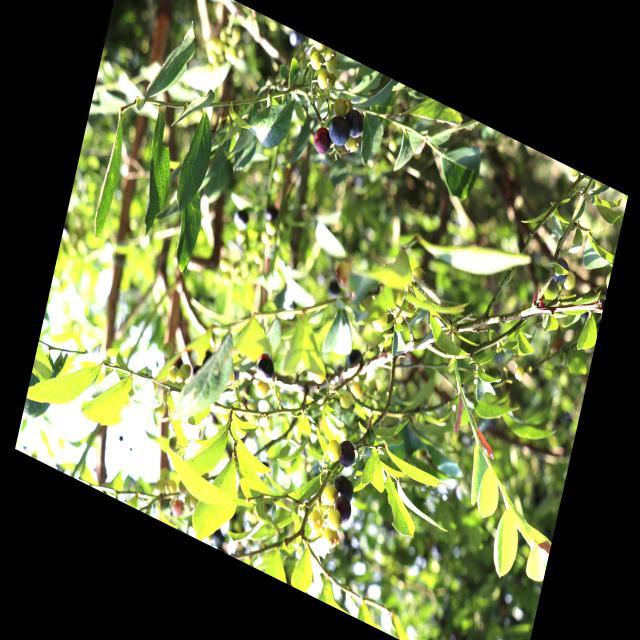blueberry: (325, 111, 353, 151), (549, 253, 573, 291), (342, 105, 367, 141), (330, 492, 355, 528), (332, 472, 358, 505), (253, 353, 277, 388), (336, 435, 359, 471), (346, 344, 365, 374), (262, 202, 280, 227), (235, 207, 252, 233), (325, 279, 342, 302)
blueberry-unripe: (320, 524, 341, 552), (306, 508, 325, 536), (324, 438, 343, 464), (325, 507, 343, 534), (331, 95, 349, 121), (321, 482, 338, 509), (255, 377, 271, 401), (315, 67, 330, 91), (344, 134, 359, 158), (308, 50, 324, 72), (339, 388, 354, 410), (325, 53, 339, 75), (324, 73, 336, 94), (323, 46, 336, 65), (312, 369, 326, 386), (312, 40, 326, 54)
